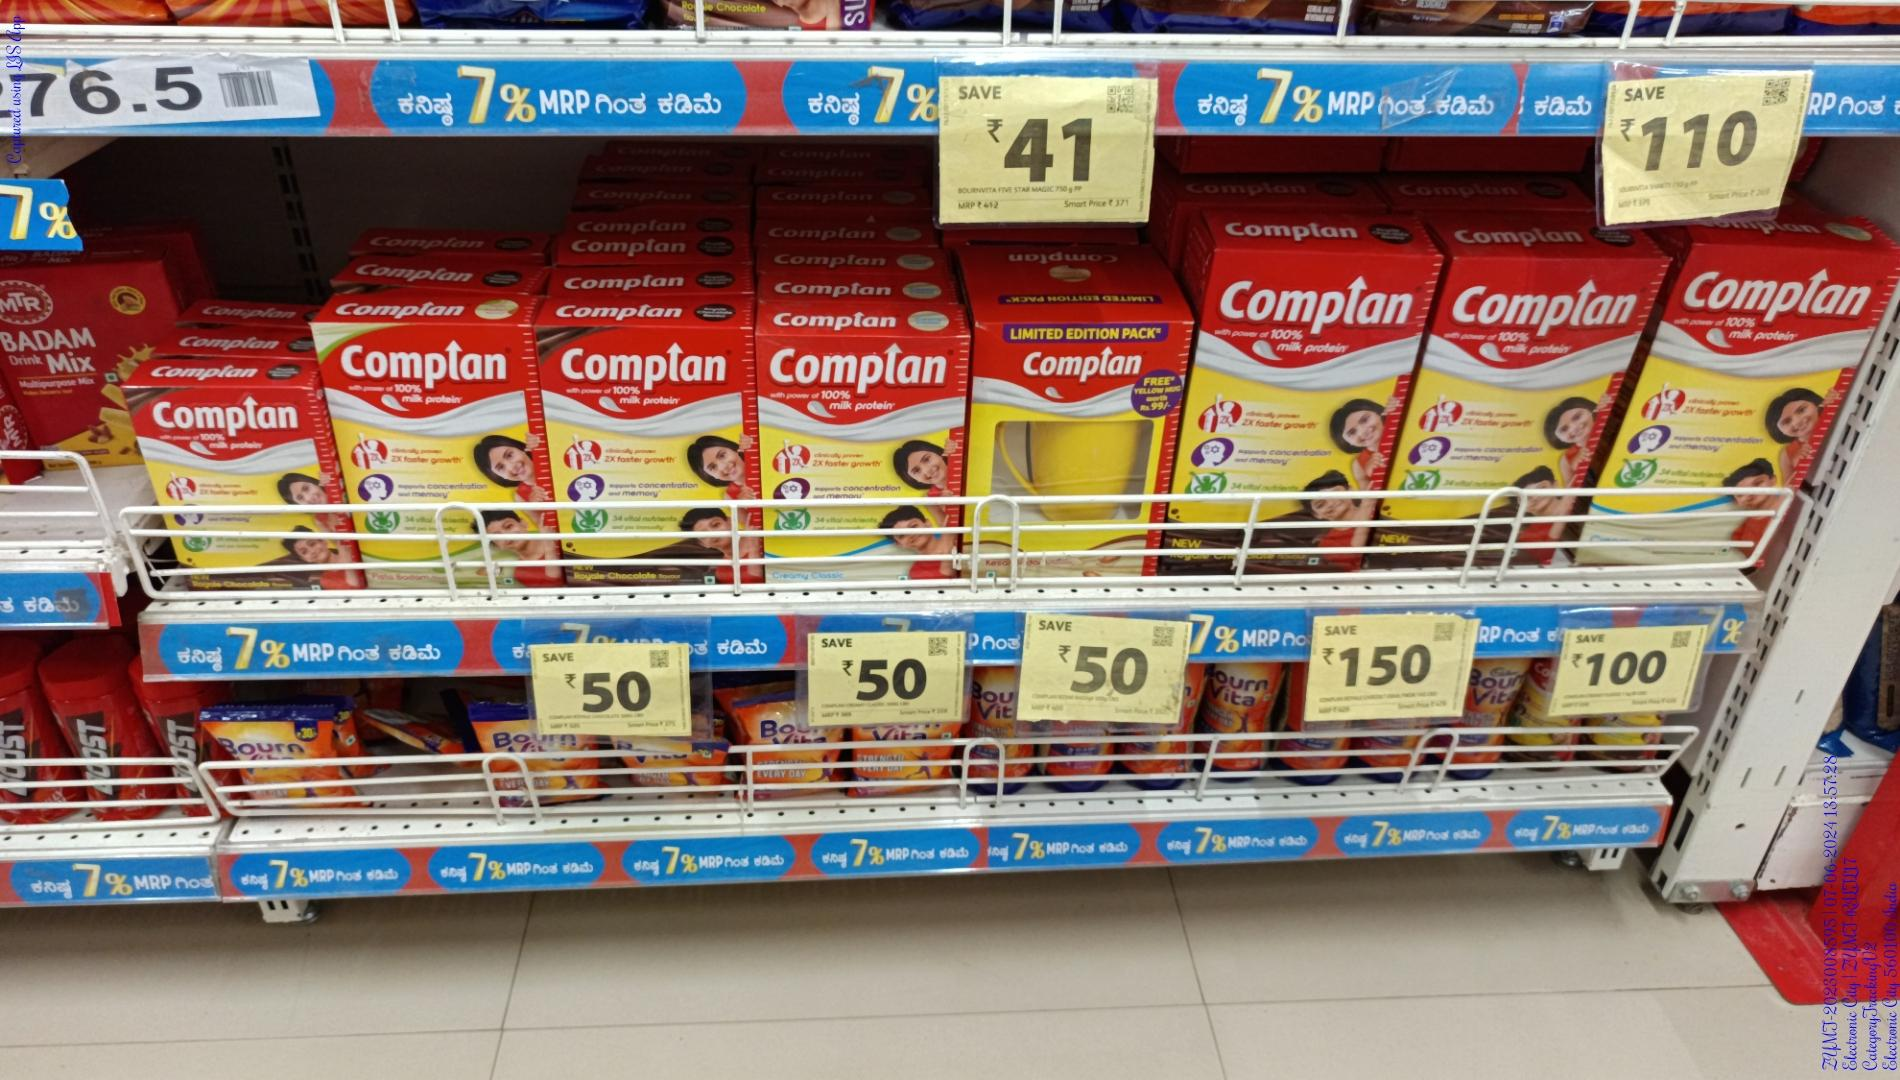COMPLAN_CHOCOLATE_1_KG_PACK: (1187, 252, 1417, 567), (1428, 254, 1630, 563)
COMPLAN_CHOCOLATE_200_GMS_PACK: (138, 383, 320, 596)
COMPLAN_CHOCOLATE_500_GMS_PACK: (539, 325, 746, 590)
COMPLAN_CREAMY_CLASSIC_500_G_PACK: (757, 330, 958, 588)
COMPLAN_PISTA_BADAM_500_GMS_PACK: (330, 318, 534, 597)
